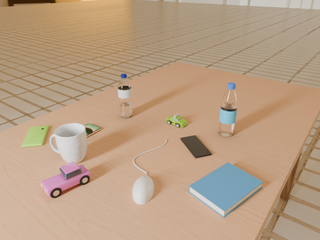book: (189, 162, 263, 217)
bottle: (218, 83, 237, 137), (118, 74, 133, 118)
cup: (50, 123, 87, 164)
mouse: (133, 176, 154, 204)
phone: (181, 135, 212, 158), (22, 126, 49, 147), (84, 124, 101, 137)
toy_car: (41, 162, 91, 198), (166, 114, 187, 127)
